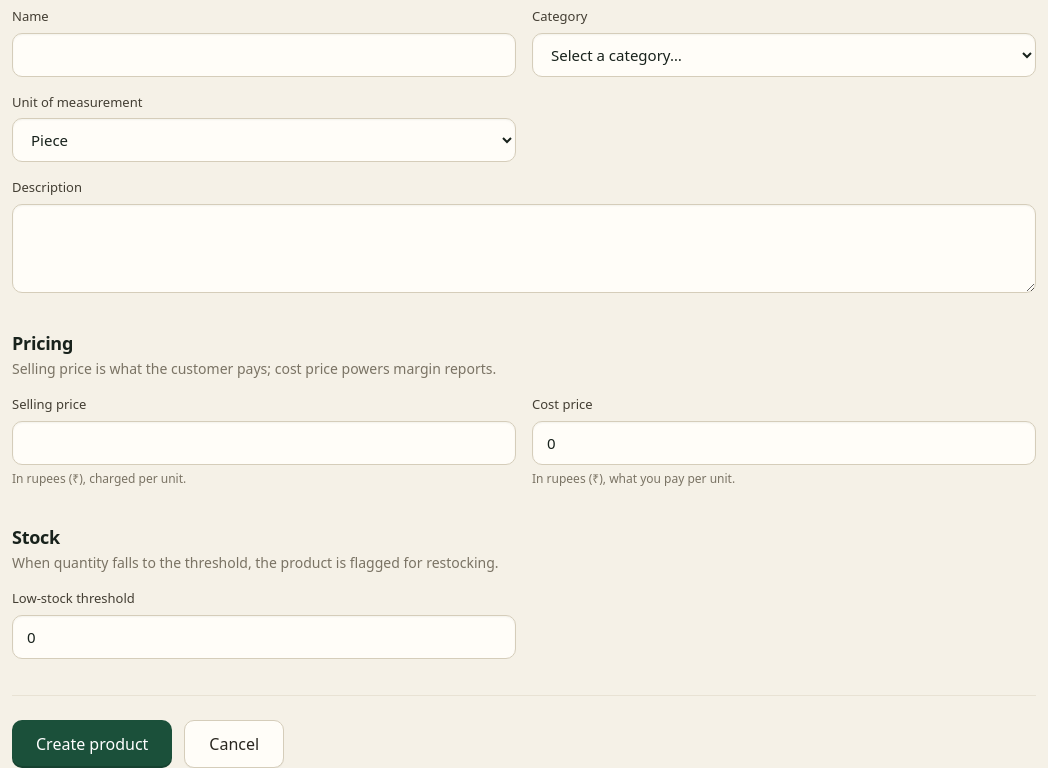
Scenario: ProductForm › shows field-level errors and does not submit an empty form
The image size is (1048, 768).
(page scrolled)
Step 1. Click the button "Create product" → (92, 744), box [12,720,172,767]
(page scrolled)
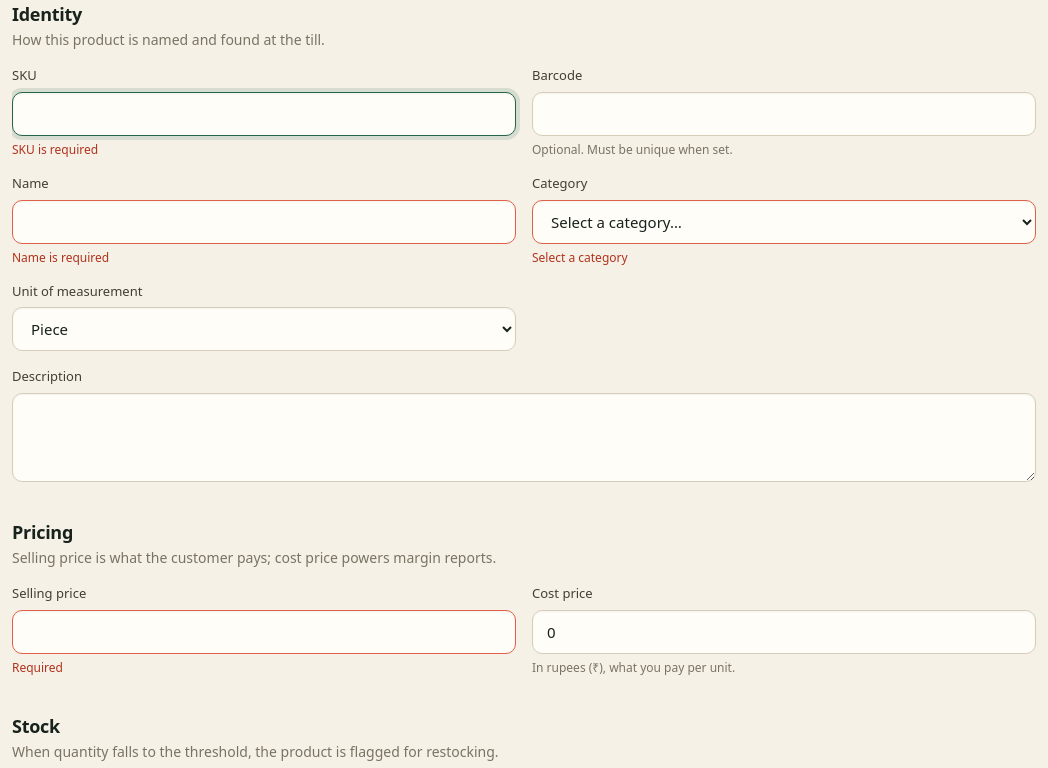
expect the text "SKU is required" is shown: met, box [12,140,98,158]
expect the text "Name is required" is shown: met, box [12,248,109,266]
expect the text "Select a category" is shown: met, box [532,248,628,266]
